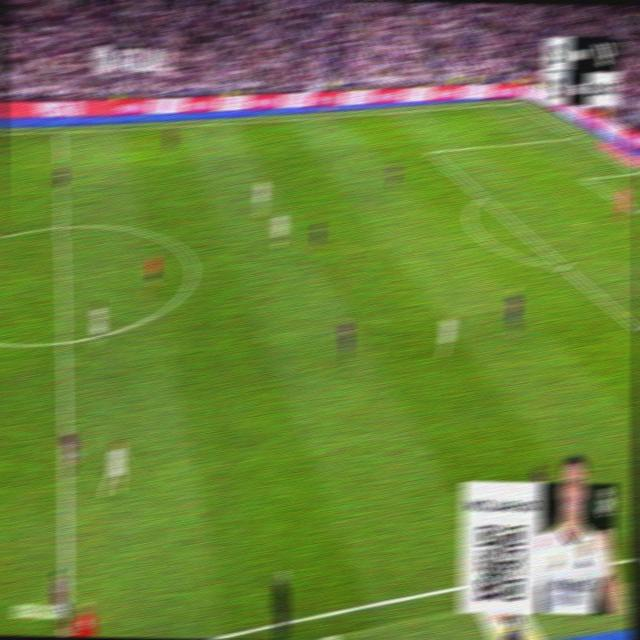bigarea_top_inner: (425, 144, 436, 158)
bigarea_top_outter: (568, 130, 581, 142)
bottom_arc_area_intersection: (555, 258, 571, 276)
corner: (510, 96, 522, 105)
halfcircle_bottom: (54, 328, 72, 353)
halfcircle_top: (51, 212, 70, 238)
midline_top_intersection: (53, 125, 66, 138)
smallarea_top_inner: (582, 174, 591, 182)
top_arc_area_intersection: (476, 188, 488, 203)
